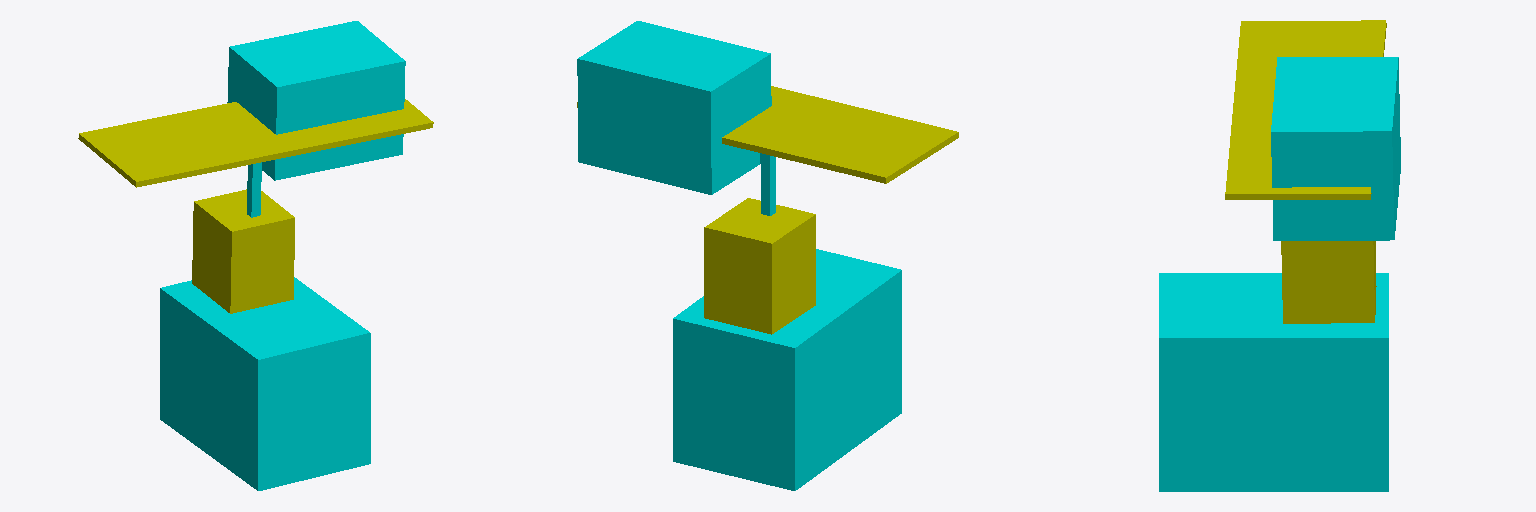
The robot description file, URDF, robot "real_pantilt":
<?xml version="1.0"?>
<!--
    SKEWED pan-tilt URDF for Gazebo calibration testing.
    
    This URDF is loaded into Gazebo (the "physical robot").
    The robot_state_publisher uses the NOMINAL URDF.
    
    The solver's job is to RECOVER these intentional perturbations:
    
    ═══════════════════════════════════════════════════════════════
    INJECTED PERTURBATIONS  (ground truth for solver validation)
    ═══════════════════════════════════════════════════════════════
    
    joint2 (pan):  base_link → pan_link
      NOMINAL:  xyz="0 -0.0285 0.092"  rpy="0 0 0"
      SKEWED:   xyz="0.001 -0.0275 0.0925"  rpy="0.02 0.01 -0.015"
      ──────────────────────────────────────────
      dt_pan  = (+1.0, +1.0, +0.5) mm
      dr_pan  = (+0.02, +0.01, -0.015) rad = (+1.15°, +0.57°, -0.86°)
    
    joint1 (tilt):  pan_link → tilt_link
      NOMINAL:  xyz="0 -0.009 0.022"   rpy="0 1.57 0"
      SKEWED:   xyz="0.0005 -0.0080 0.0225"  rpy="0.015 1.58 -0.01"
      ──────────────────────────────────────────
      dt_tilt = (+0.5, +1.0, +0.5) mm
      dr_tilt = (+0.015, +0.01, -0.01) rad = (+0.86°, +0.57°, -0.57°)
      
    NOTE: encoder zero offsets cannot be injected via URDF — they
          would need a Gazebo plugin that offsets the reported angle.
          For this test we omit encoder zeros (= 0).
    ═══════════════════════════════════════════════════════════════
-->
<robot name="real_pantilt" xmlns:xacro="http://ros.org/wiki/xacro">

    <link name="map">
        <inertial>
            <mass value="0.001" />
            <origin xyz="0 0 0" rpy="0 0 0" />
            <inertia ixx="0.0001" ixy="0" ixz="0" iyy="0.0001" iyz="0" izz="0.0001" />
        </inertial>
    </link>

    <link name="base_link">
        <visual>
            <origin xyz="0.0 -0.05 0.035" rpy="0 0 0" />
            <geometry><box size="0.0625 0.095 0.07" /></geometry>
            <material name="Cyan1"><color rgba="0 0.9 0.9 1.0" /></material>
        </visual>
        <collision>
            <origin xyz="0.0 -0.05 0.035" rpy="0 0 0" />
            <geometry><box size="0.0625 0.095 0.07" /></geometry>
        </collision>
        <inertial>
            <mass value="1" />
            <origin xyz="0 0 0" rpy="0 0 0" />
            <inertia ixx="0.01" ixy="0" ixz="0" iyy="0.01" iyz="0" izz="0.01" />
        </inertial>
    </link>

    <joint name="map_to_base" type="fixed">
        <origin xyz="0 0 0" rpy="0 0 0" />
        <parent link="map" />
        <child link="base_link" />
    </joint>

    <link name="pan_link">
        <visual>
            <origin xyz="0 0 0" rpy="0 0 0" />
            <geometry><box size="0.035 0.038 0.044" /></geometry>
            <material name="Yellow2"><color rgba="0.8 0.8 0 1.0" /></material>
        </visual>
        <collision>
            <origin xyz="0 0 0" rpy="0 0 0" />
            <geometry><box size="0.035 0.038 0.044" /></geometry>
        </collision>
        <inertial>
            <mass value="0.50" />
            <origin xyz="0 0 0" rpy="0 0 0" />
            <inertia ixx="0.01" ixy="0" ixz="0" iyy="0.01" iyz="0" izz="0.01" />
        </inertial>
    </link>

    <!-- SKEWED joint2 (pan): +1mm X, +1mm Y, +0.5mm Z, +1.15° roll, +0.57° pitch, -0.86° yaw -->
    <joint name="joint2" type="revolute">
        <parent link="base_link" />
        <child link="pan_link" />
        <origin xyz="0.001 -0.0275 0.0925" rpy="0.02 0.01 -0.015" />
        <axis xyz="0 0 -1" />
        <limit effort="10" lower="-3.1416" upper="3.1416" velocity="3" />
        <dynamics damping="1.0" />
    </joint>

    <link name="tilt_link">
        <visual>
            <origin xyz="-0.022 0 0" rpy="0 -1.57 0" />
            <geometry><box size="0.005 0.005 0.044" /></geometry>
            <material name="Cyan1"><color rgba="0 0.9 0.9 1.0" /></material>
        </visual>
        <collision>
            <origin xyz="-0.022 0 0" rpy="0 -1.57 0" />
            <geometry><box size="0.005 0.005 0.044" /></geometry>
        </collision>
        <inertial>
            <mass value="0.20" />
            <origin xyz="0 0 0" rpy="0 0 0" />
            <inertia ixx="0.01" ixy="0" ixz="0" iyy="0.01" iyz="0" izz="0.01" />
        </inertial>
    </link>

    <!-- SKEWED joint1 (tilt): +0.5mm X, +1mm Y, +0.5mm Z, +0.86° roll, +0.57° pitch, -0.57° yaw -->
    <joint name="joint1" type="revolute">
        <parent link="pan_link" />
        <child link="tilt_link" />
        <origin xyz="0.0005 -0.0080 0.0225" rpy="0.015 1.58 -0.01" />
        <axis xyz="0 0 1" />
        <limit effort="10" lower="-0.8727" upper="0.8727" velocity="3" />
        <dynamics damping="1.0" />
    </joint>

    <link name="hokuyo_base">
        <visual>
            <origin xyz="0 0 0" rpy="0 -1.57 0" />
            <geometry><box size="0.162 0.06 0.003" /></geometry>
            <material name="Yellow2"><color rgba="0.8 0.8 0 1.0" /></material>
        </visual>
        <collision>
            <origin xyz="0 0 0" rpy="0 -1.57 0" />
            <geometry><box size="0.162 0.06 0.003" /></geometry>
        </collision>
        <inertial>
            <mass value="0.10" />
            <origin xyz="0 0 0" rpy="0 0 0" />
            <inertia ixx="0.01" ixy="0" ixz="0" iyy="0.01" iyz="0" izz="0.01" />
        </inertial>
    </link>

    <joint name="hokuyo_base_joint" type="fixed">
        <parent link="tilt_link" />
        <child link="hokuyo_base" />
        <origin xyz="-0.045 0 0" rpy="0 0 0" />
        <dynamics damping="1.0" />
    </joint>

    <link name="laser">
        <visual>
            <origin xyz="0.0 0.0 -0.059" rpy="1.57 0 0" />
            <geometry>
                <box size="0.05 0.05 0.07" />
            </geometry>
            <material name="Cyan1"><color rgba="0 0.9 0.9 1.0" /></material>
        </visual>
        <collision>
            <origin xyz="0.0 0.0 -0.059" rpy="1.57 0 0" />
            <geometry>
                <box size="0.05 0.05 0.07" />
            </geometry>
        </collision>
        <inertial>
            <mass value="0.16" />
            <origin xyz="0 0 0" rpy="0 0 0" />
            <inertia ixx="0.001" ixy="0" ixz="0" iyy="0.001" iyz="0" izz="0.001" />
        </inertial>
    </link>

    <joint name="hokuyo_joint" type="fixed">
        <origin xyz="-0.061 0.014 0.040" rpy="1.57 3.14 -1.57" />
        <parent link="hokuyo_base" />
        <child link="laser" />
        <dynamics damping="1.0" />
    </joint>

    <!-- =================== GAZEBO EXTENSIONS =================== -->

    <!-- Hokuyo planar lidar plugin (same as real URG-04LX) -->
    <gazebo reference="laser">
        <sensor type="ray" name="hokuyo_sensor">
            <pose>0 0 0 0 0 0</pose>
            <visualize>true</visualize>
            <update_rate>10</update_rate>
            <ray>
                <scan>
                    <horizontal>
                        <samples>683</samples>
                        <resolution>1</resolution>
                        <min_angle>-2.0944</min_angle>
                        <max_angle>2.0944</max_angle>
                    </horizontal>
                </scan>
                <range>
                    <min>0.06</min>
                    <max>4.095</max>
                    <resolution>0.001</resolution>
                </range>
                <noise>
                    <type>gaussian</type>
                    <mean>0.0</mean>
                    <stddev>0.001</stddev>
                </noise>
            </ray>
            <plugin name="gazebo_ros_hokuyo" filename="libgazebo_ros_laser.so">
                <topicName>/scan</topicName>
                <frameName>laser</frameName>
            </plugin>
        </sensor>
    </gazebo>

    <!-- Fix robot to world -->
    <gazebo>
        <static>false</static>
    </gazebo>
    <gazebo reference="map">
        <static>true</static>
    </gazebo>

    <!-- Low-friction joints for position control -->
    <gazebo reference="joint2">
        <implicitSpringDamper>true</implicitSpringDamper>
    </gazebo>
    <gazebo reference="joint1">
        <implicitSpringDamper>true</implicitSpringDamper>
    </gazebo>

</robot>

--- What the picture shows (computed from the rendered views, not written in the file) ---
The picture shows the robot from 3 angles, left to right: view 1: azimuth 30°, elevation 25°; view 2: azimuth 150°, elevation 25°; view 3: azimuth 270°, elevation 25°; orthographic projection.
Robot: real_pantilt — 6 links, 5 joints (2 revolute, 3 fixed); root link map; default pose: every joint at zero.
Links seen in each view (by area): view 1: base_link, laser, hokuyo_base, pan_link, tilt_link; view 2: base_link, laser, pan_link, hokuyo_base, tilt_link; view 3: base_link, laser, hokuyo_base, pan_link.
Link boxes in pixels (left/top/right/bottom): base_link: left=160, top=277, right=370, bottom=490; laser: left=227, top=21, right=405, bottom=180; hokuyo_base: left=78, top=99, right=433, bottom=187; pan_link: left=192, top=189, right=294, bottom=313; tilt_link: left=247, top=162, right=261, bottom=217; base_link: left=673, top=249, right=901, bottom=490; laser: left=577, top=21, right=771, bottom=194; pan_link: left=704, top=198, right=815, bottom=334; hokuyo_base: left=577, top=86, right=958, bottom=183; tilt_link: left=760, top=153, right=775, bottom=215; base_link: left=1159, top=273, right=1388, bottom=491; laser: left=1271, top=57, right=1400, bottom=240; hokuyo_base: left=1225, top=20, right=1386, bottom=199; pan_link: left=1281, top=241, right=1376, bottom=323.
Size in the robot's own frame: 0.1643 by 0.0999 by 0.1874 metres.
Geometry: primitives only (box / cylinder / sphere), no mesh files.
